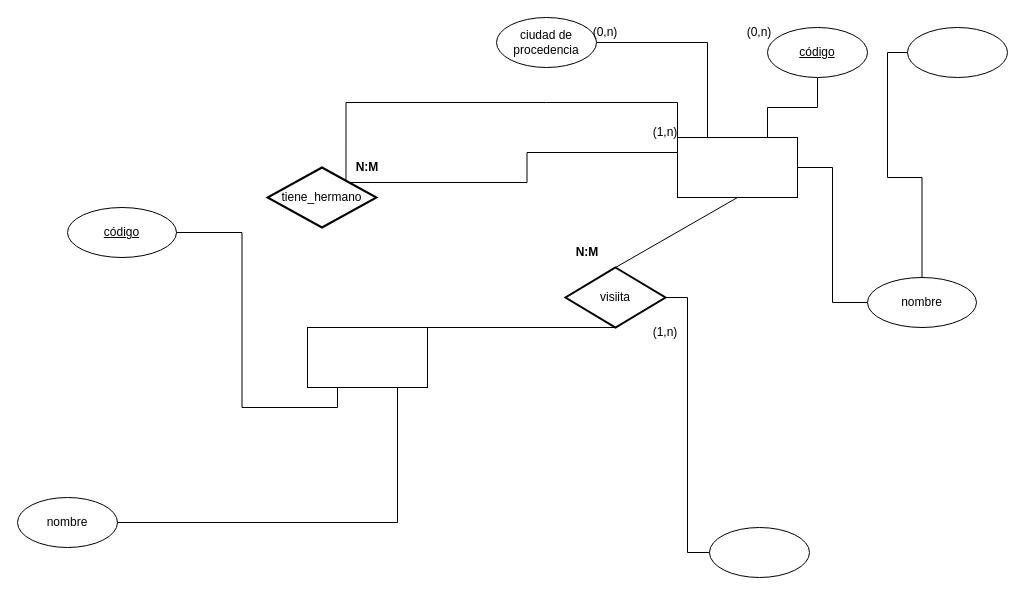
The diagram is 1025 pixels wide and 595 high, and some of its shapes have lost their labels. The shapes that lost their labels are listed below. From the top down, each one's centre as x and y in pixels, then its label:
At [957,52]: "apellido".
At [737,167]: "PERSONAJE".
At [367,357]: "LUGAR".
At [759,552]: "fecha".
